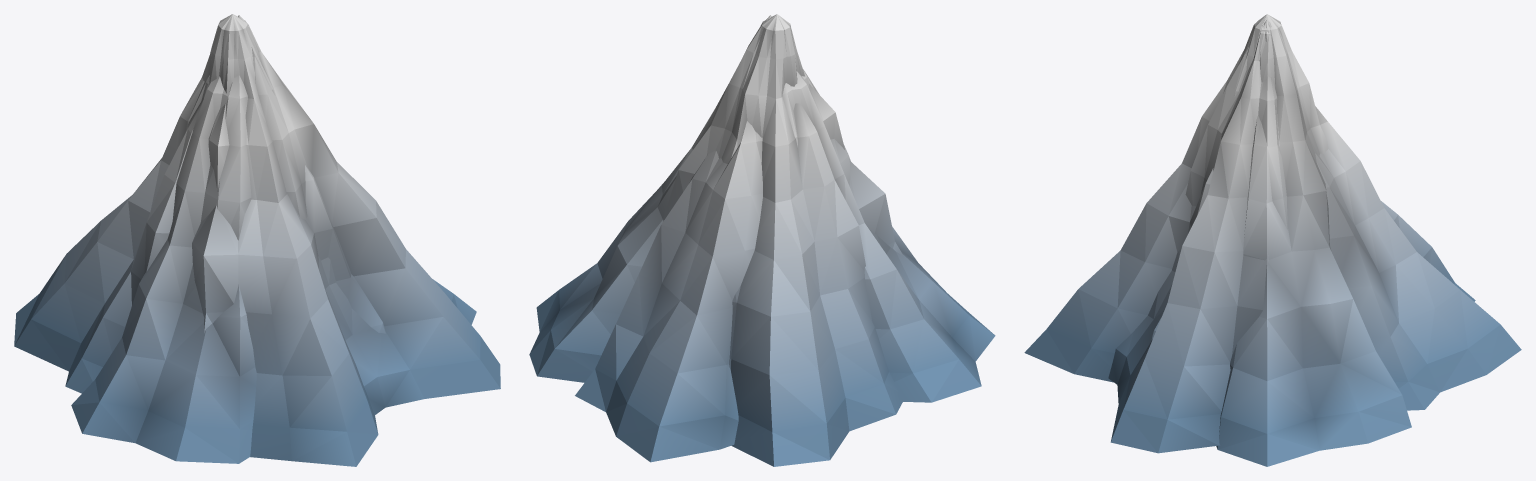
Rendered from glacier-s1-B8dtezkF.glb.
3 renders of one model, left to right at view 1: azimuth 30°, elevation 25°; view 2: azimuth 150°, elevation 25°; view 3: azimuth 270°, elevation 25°, orthographic. The views are drawn at different scales.
Parts seen in each view (by area): view 1: sc_peak_2, sc_peak_0; view 2: sc_peak_0, sc_peak_2; view 3: sc_peak_0, sc_peak_2.
Part boxes in pixels (x1,y1,x2,y2): sc_peak_2: (71,15,500,463); sc_peak_0: (14,14,476,466); sc_peak_0: (529,14,903,466); sc_peak_2: (575,15,995,462); sc_peak_0: (1024,14,1475,466); sc_peak_2: (1108,19,1521,453).
Bounding box in the file's own units: 136 × 111 × 145.
